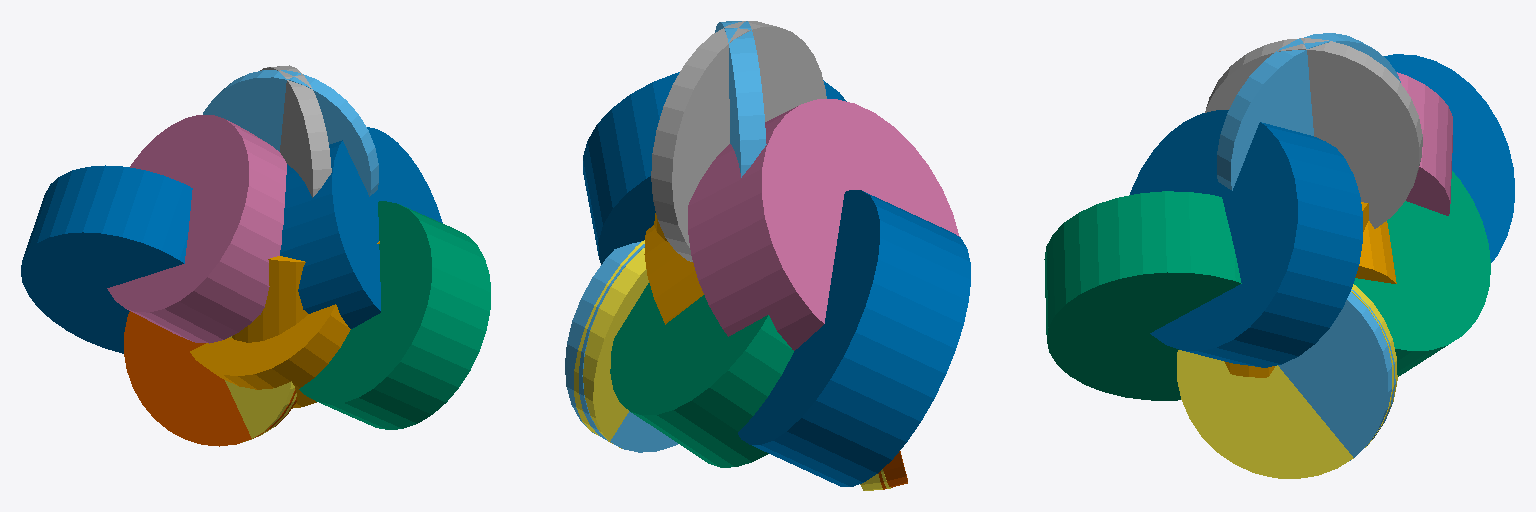
The robot description file, URDF, robot "pepe":
<?xml version="1.0"?><robot name="pepe">
	<link name="0">
		<visual>
			<geometry>
				<cylinder length="0.9498059913536265" radius="0.619805248222006"/>
			</geometry>
		</visual>
		<collision>
			<geometry>
				<cylinder length="0.9498059913536265" radius="0.619805248222006"/>
			</geometry>
		</collision>
		<inertial>
			<mass value="1.1462920386558113"/>
			<inertia ixx="0.03" iyy="0.03" izz="0.03" ixy="0" ixz="0" iyx="0"/>
		</inertial>
	</link>
	<link name="11">
		<visual>
			<geometry>
				<cylinder length="0.14300582825809938" radius="0.6759813272619554"/>
			</geometry>
		</visual>
		<collision>
			<geometry>
				<cylinder length="0.14300582825809938" radius="0.6759813272619554"/>
			</geometry>
		</collision>
		<inertial>
			<mass value="0.20529246498672757"/>
			<inertia ixx="0.03" iyy="0.03" izz="0.03" ixy="0" ixz="0" iyx="0"/>
		</inertial>
	</link>
	<link name="22">
		<visual>
			<geometry>
				<cylinder length="0.5815774073442912" radius="0.7423137807477789"/>
			</geometry>
		</visual>
		<collision>
			<geometry>
				<cylinder length="0.5815774073442912" radius="0.7423137807477789"/>
			</geometry>
		</collision>
		<inertial>
			<mass value="1.0067750539773506"/>
			<inertia ixx="0.03" iyy="0.03" izz="0.03" ixy="0" ixz="0" iyx="0"/>
		</inertial>
	</link>
	<link name="33">
		<visual>
			<geometry>
				<cylinder length="0.14300582825809938" radius="0.6759813272619554"/>
			</geometry>
		</visual>
		<collision>
			<geometry>
				<cylinder length="0.14300582825809938" radius="0.6759813272619554"/>
			</geometry>
		</collision>
		<inertial>
			<mass value="0.20529246498672757"/>
			<inertia ixx="0.03" iyy="0.03" izz="0.03" ixy="0" ixz="0" iyx="0"/>
		</inertial>
	</link>
	<link name="44">
		<visual>
			<geometry>
				<cylinder length="0.5815774073442912" radius="0.749925"/>
			</geometry>
		</visual>
		<collision>
			<geometry>
				<cylinder length="0.5815774073442912" radius="0.749925"/>
			</geometry>
		</collision>
		<inertial>
			<mass value="1.0275265759586263"/>
			<inertia ixx="0.03" iyy="0.03" izz="0.03" ixy="0" ixz="0" iyx="0"/>
		</inertial>
	</link>
	<link name="35">
		<visual>
			<geometry>
				<cylinder length="0.14300582825809938" radius="0.6759813272619554"/>
			</geometry>
		</visual>
		<collision>
			<geometry>
				<cylinder length="0.14300582825809938" radius="0.6759813272619554"/>
			</geometry>
		</collision>
		<inertial>
			<mass value="0.20529246498672757"/>
			<inertia ixx="0.03" iyy="0.03" izz="0.03" ixy="0" ixz="0" iyx="0"/>
		</inertial>
	</link>
	<link name="46">
		<visual>
			<geometry>
				<cylinder length="0.5815774073442912" radius="0.749925"/>
			</geometry>
		</visual>
		<collision>
			<geometry>
				<cylinder length="0.5815774073442912" radius="0.749925"/>
			</geometry>
		</collision>
		<inertial>
			<mass value="1.0275265759586263"/>
			<inertia ixx="0.03" iyy="0.03" izz="0.03" ixy="0" ixz="0" iyx="0"/>
		</inertial>
	</link>
	<link name="17">
		<visual>
			<geometry>
				<cylinder length="0.14300582825809938" radius="0.6759813272619554"/>
			</geometry>
		</visual>
		<collision>
			<geometry>
				<cylinder length="0.14300582825809938" radius="0.6759813272619554"/>
			</geometry>
		</collision>
		<inertial>
			<mass value="0.20529246498672757"/>
			<inertia ixx="0.03" iyy="0.03" izz="0.03" ixy="0" ixz="0" iyx="0"/>
		</inertial>
	</link>
	<link name="28">
		<visual>
			<geometry>
				<cylinder length="0.5815774073442912" radius="0.7423137807477789"/>
			</geometry>
		</visual>
		<collision>
			<geometry>
				<cylinder length="0.5815774073442912" radius="0.7423137807477789"/>
			</geometry>
		</collision>
		<inertial>
			<mass value="1.0067750539773506"/>
			<inertia ixx="0.03" iyy="0.03" izz="0.03" ixy="0" ixz="0" iyx="0"/>
		</inertial>
	</link>
	<link name="39">
		<visual>
			<geometry>
				<cylinder length="0.14300582825809938" radius="0.6759813272619554"/>
			</geometry>
		</visual>
		<collision>
			<geometry>
				<cylinder length="0.14300582825809938" radius="0.6759813272619554"/>
			</geometry>
		</collision>
		<inertial>
			<mass value="0.20529246498672757"/>
			<inertia ixx="0.03" iyy="0.03" izz="0.03" ixy="0" ixz="0" iyx="0"/>
		</inertial>
	</link>
	<link name="410">
		<visual>
			<geometry>
				<cylinder length="0.5815774073442912" radius="0.749925"/>
			</geometry>
		</visual>
		<collision>
			<geometry>
				<cylinder length="0.5815774073442912" radius="0.749925"/>
			</geometry>
		</collision>
		<inertial>
			<mass value="1.0275265759586263"/>
			<inertia ixx="0.03" iyy="0.03" izz="0.03" ixy="0" ixz="0" iyx="0"/>
		</inertial>
	</link>
	<link name="311">
		<visual>
			<geometry>
				<cylinder length="0.14300582825809938" radius="0.6759813272619554"/>
			</geometry>
		</visual>
		<collision>
			<geometry>
				<cylinder length="0.14300582825809938" radius="0.6759813272619554"/>
			</geometry>
		</collision>
		<inertial>
			<mass value="0.20529246498672757"/>
			<inertia ixx="0.03" iyy="0.03" izz="0.03" ixy="0" ixz="0" iyx="0"/>
		</inertial>
	</link>
	<link name="412">
		<visual>
			<geometry>
				<cylinder length="0.5815774073442912" radius="0.749925"/>
			</geometry>
		</visual>
		<collision>
			<geometry>
				<cylinder length="0.5815774073442912" radius="0.749925"/>
			</geometry>
		</collision>
		<inertial>
			<mass value="1.0275265759586263"/>
			<inertia ixx="0.03" iyy="0.03" izz="0.03" ixy="0" ixz="0" iyx="0"/>
		</inertial>
	</link>
	<joint name="11_to_0" type="revolute">
		<parent link="0"/>
		<child link="11"/>
		<axis xyz="0 1 0"/>
		<limit effort="150" lower="-10" upper="10" velocity="1"/>
		<origin rpy="7.871900447902844 1.4792371414831578 2.2349615040137243" xyz="0.026218567296373285 0.2603951795196491 0.845637192707496"/>
	</joint>
	<joint name="22_to_11" type="revolute">
		<parent link="11"/>
		<child link="22"/>
		<axis xyz="0 1 0"/>
		<limit effort="150" lower="-10" upper="10" velocity="1"/>
		<origin rpy="0.7153964219411544 3.1951017714644565 1.3317849921965108" xyz="0.8986042447602102 0.29733138150727223 0.02760601195450363"/>
	</joint>
	<joint name="33_to_22" type="revolute">
		<parent link="22"/>
		<child link="33"/>
		<axis xyz="0 1 0"/>
		<limit effort="150" lower="-10" upper="10" velocity="1"/>
		<origin rpy="6.615263386466927 0.850918610765199 2.2349615040137243" xyz="0.026218567296373285 0.1603951795196491 0.7456371927074961"/>
	</joint>
	<joint name="44_to_33" type="revolute">
		<parent link="33"/>
		<child link="44"/>
		<axis xyz="0 1 0"/>
		<limit effort="150" lower="-10" upper="10" velocity="1"/>
		<origin rpy="0.7153964219411544 3.1951017714644565 1.3317849921965108" xyz="0.7986042447602102 0.29733138150727223 0.02760601195450363"/>
	</joint>
	<joint name="35_to_22" type="revolute">
		<parent link="22"/>
		<child link="35"/>
		<axis xyz="0 1 0"/>
		<limit effort="150" lower="-10" upper="10" velocity="1"/>
		<origin rpy="9.922895079700389 0.850918610765199 2.2349615040137243" xyz="0.026218567296373285 0.1603951795196491 0.7456371927074961"/>
	</joint>
	<joint name="46_to_35" type="revolute">
		<parent link="35"/>
		<child link="46"/>
		<axis xyz="0 1 0"/>
		<limit effort="150" lower="-10" upper="10" velocity="1"/>
		<origin rpy="0.7153964219411544 3.1951017714644565 1.3317849921965108" xyz="0.7986042447602102 0.29733138150727223 0.02760601195450363"/>
	</joint>
	<joint name="17_to_0" type="revolute">
		<parent link="0"/>
		<child link="17"/>
		<axis xyz="0 1 0"/>
		<limit effort="150" lower="-10" upper="10" velocity="1"/>
		<origin rpy="11.807850671854265 1.4792371414831578 2.2349615040137243" xyz="0.026218567296373285 0.2603951795196491 0.845637192707496"/>
	</joint>
	<joint name="28_to_17" type="revolute">
		<parent link="17"/>
		<child link="28"/>
		<axis xyz="0 1 0"/>
		<limit effort="150" lower="-10" upper="10" velocity="1"/>
		<origin rpy="0.7153964219411544 3.1951017714644565 1.3317849921965108" xyz="0.8986042447602102 0.29733138150727223 0.02760601195450363"/>
	</joint>
	<joint name="39_to_28" type="revolute">
		<parent link="28"/>
		<child link="39"/>
		<axis xyz="0 1 0"/>
		<limit effort="150" lower="-10" upper="10" velocity="1"/>
		<origin rpy="6.615263386466927 0.850918610765199 2.2349615040137243" xyz="0.026218567296373285 0.1603951795196491 0.7456371927074961"/>
	</joint>
	<joint name="410_to_39" type="revolute">
		<parent link="39"/>
		<child link="410"/>
		<axis xyz="0 1 0"/>
		<limit effort="150" lower="-10" upper="10" velocity="1"/>
		<origin rpy="0.7153964219411544 3.1951017714644565 1.3317849921965108" xyz="0.7986042447602102 0.29733138150727223 0.02760601195450363"/>
	</joint>
	<joint name="311_to_28" type="revolute">
		<parent link="28"/>
		<child link="311"/>
		<axis xyz="0 1 0"/>
		<limit effort="150" lower="-10" upper="10" velocity="1"/>
		<origin rpy="9.922895079700389 0.850918610765199 2.2349615040137243" xyz="0.026218567296373285 0.1603951795196491 0.7456371927074961"/>
	</joint>
	<joint name="412_to_311" type="revolute">
		<parent link="311"/>
		<child link="412"/>
		<axis xyz="0 1 0"/>
		<limit effort="150" lower="-10" upper="10" velocity="1"/>
		<origin rpy="0.7153964219411544 3.1951017714644565 1.3317849921965108" xyz="0.7986042447602102 0.29733138150727223 0.02760601195450363"/>
	</joint>
</robot>

--- Facts derived from the render (not from the file) ---
The picture shows the robot from 3 angles, left to right: view 1: azimuth 30°, elevation 25°; view 2: azimuth 150°, elevation 25°; view 3: azimuth 270°, elevation 25°; orthographic projection.
Model pepe with 13 links and 12 joints (12 revolute), rooted at 0, posed all joints at 0.
Visible links, largest first — view 1: 410, 46, 44, 412, 35, 28, 11, 17, 0, 33; view 2: 44, 46, 22, 17, 412, 311, 39, 11, 28, 35; view 3: 412, 410, 17, 22, 311, 39, 44, 11, 46, 28, 0.
Boxes of the visible links, bbox=[...] form: 410: bbox=[299, 201, 490, 429]; 46: bbox=[107, 115, 286, 343]; 44: bbox=[21, 165, 192, 353]; 412: bbox=[280, 127, 442, 328]; 35: bbox=[124, 311, 296, 446]; 28: bbox=[190, 304, 350, 408]; 11: bbox=[203, 70, 378, 196]; 17: bbox=[260, 65, 331, 197]; 0: bbox=[232, 241, 379, 342]; 33: bbox=[225, 336, 296, 442]; 44: bbox=[738, 190, 970, 486]; 46: bbox=[688, 99, 959, 350]; 22: bbox=[610, 283, 793, 467]; 17: bbox=[651, 21, 826, 261]; 412: bbox=[583, 72, 846, 264]; 311: bbox=[574, 240, 648, 448]; 39: bbox=[565, 241, 677, 452]; 11: bbox=[715, 21, 766, 177]; 28: bbox=[644, 225, 703, 324]; 35: bbox=[878, 451, 907, 489]; 412: bbox=[1130, 110, 1362, 367]; 410: bbox=[1044, 191, 1241, 400]; 17: bbox=[1205, 38, 1422, 228]; 22: bbox=[1354, 171, 1490, 376]; 311: bbox=[1177, 284, 1397, 478]; 39: bbox=[1278, 289, 1395, 460]; 44: bbox=[1384, 54, 1514, 262]; 11: bbox=[1217, 33, 1400, 190]; 46: bbox=[1397, 72, 1452, 215]; 28: bbox=[1355, 221, 1396, 283]; 0: bbox=[1224, 202, 1368, 377].
Size in the robot's own frame: 2.82 by 2.88 by 2.64 metres.
Geometry: primitives only (box / cylinder / sphere), no mesh files.
